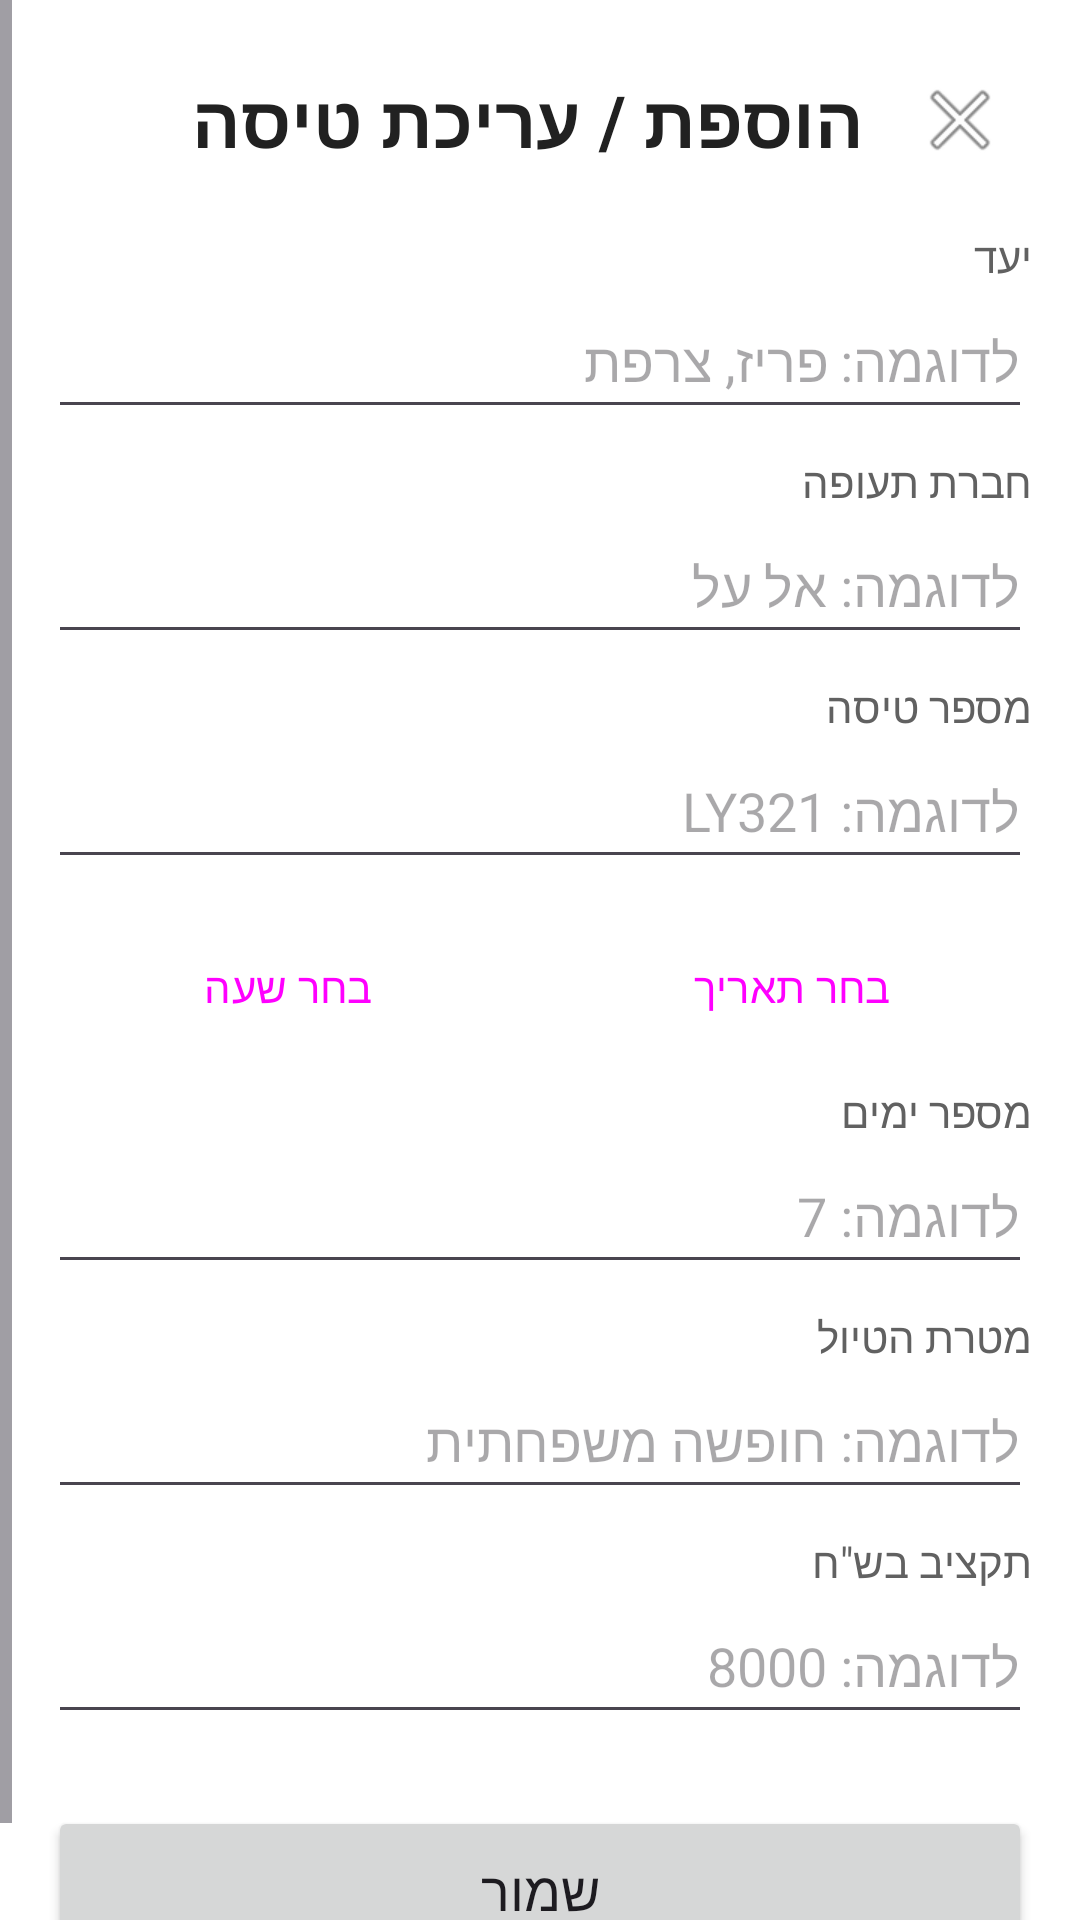

Point at icon controls on the screen. Image size 1080 × 1920, points as (x=x, y=y).
סגור: (x=960, y=120)
